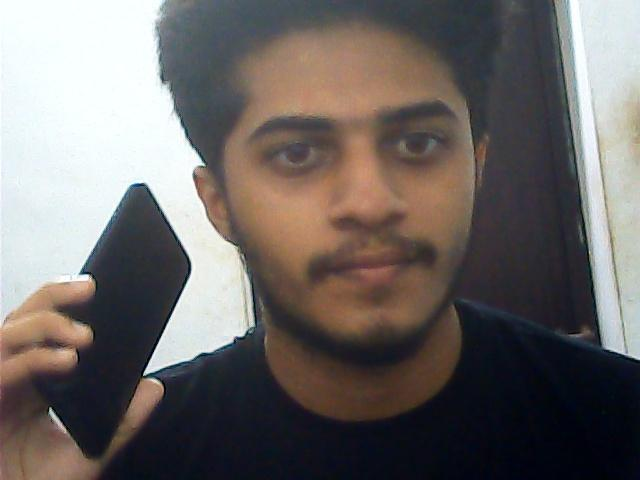PhoneUse: (39, 168, 192, 460)
SafeDriving: (372, 110, 460, 172), (255, 122, 342, 179)
